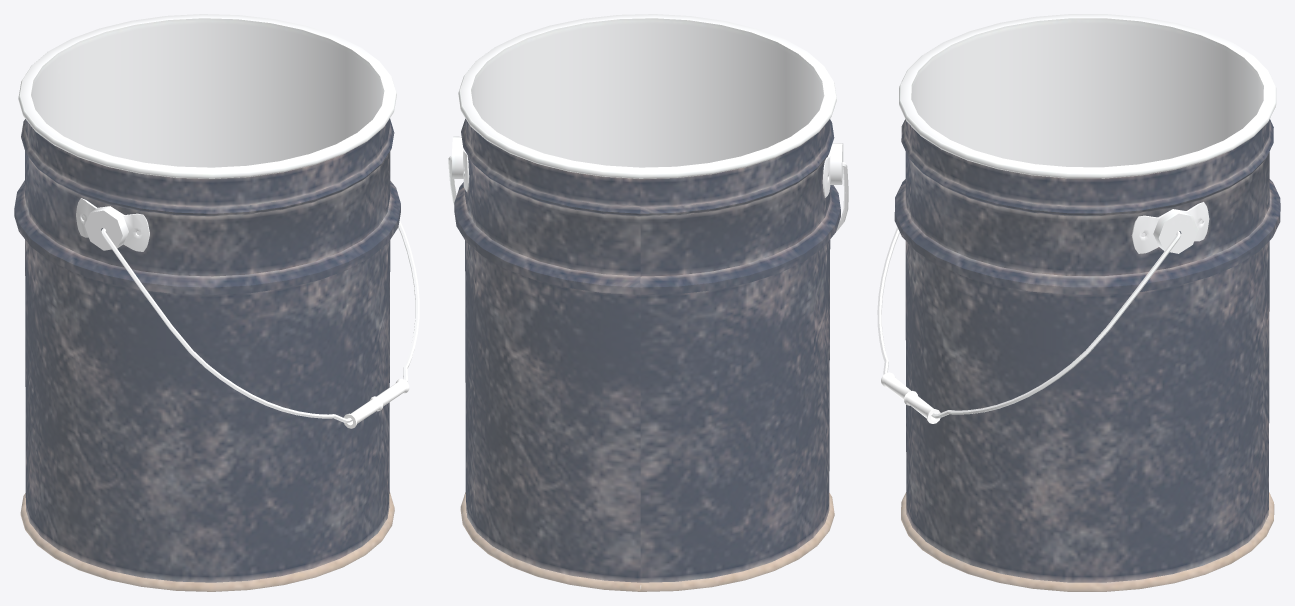
Rendered from Bucket.fbx.
The picture shows the model from 3 angles, left to right: view 1: azimuth 30°, elevation 25°; view 2: azimuth 150°, elevation 25°; view 3: azimuth 270°, elevation 25°; orthographic projection.
Parts seen in each view (by area): view 1: Bucket.001; view 2: Bucket.001; view 3: Bucket.001.
Part boxes in pixels (left/top/right/bottom): Bucket.001: left=14, top=14, right=419, bottom=591; Bucket.001: left=448, top=14, right=848, bottom=591; Bucket.001: left=877, top=14, right=1280, bottom=591.
Bounding box in the file's own units: 6375 × 7181 × 6232.
1 material, 1 textured.
